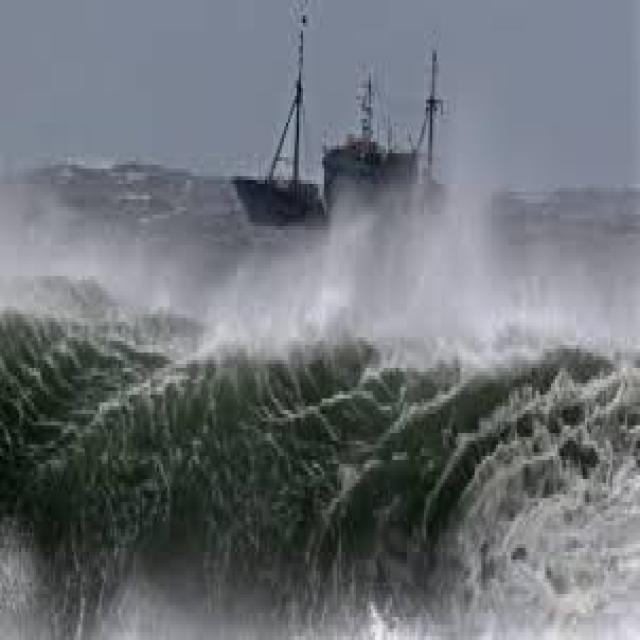fishing boat: (232, 33, 455, 252)
